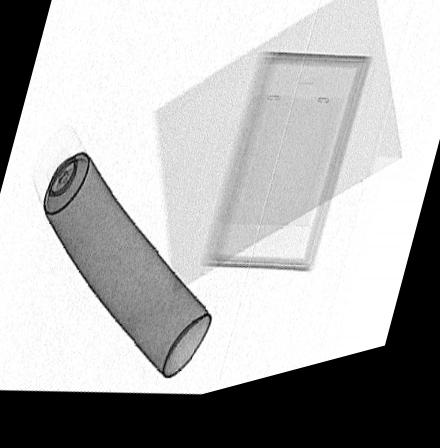Sprayer: (31, 126, 211, 388)
